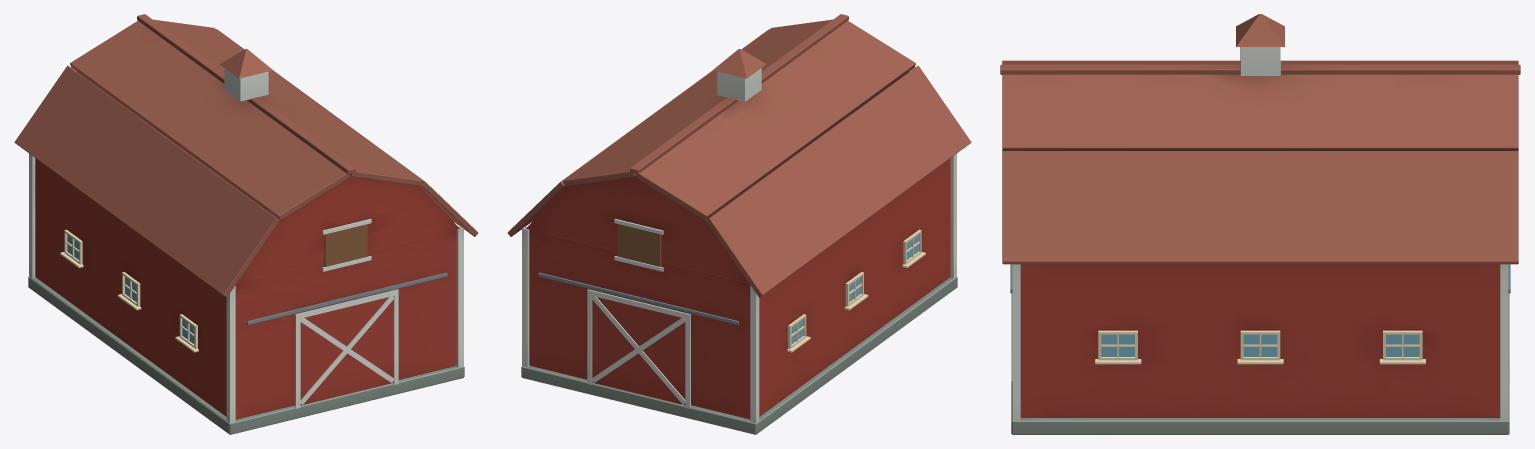
Rendered from sm_arch_barn.glb.
3 views of the same model, side by side, from view 1: azimuth 30°, elevation 25°; view 2: azimuth 150°, elevation 25°; view 3: azimuth 270°, elevation 25° (orthographic). The views are drawn at different scales.
Parts seen in each view (by area): view 1: BarnWalls, BarnRoofLower, BarnRoofUpper, BarnGableBack, BarnDoor.001, BarnRoofUpper.001, Foundation, RidgeCap, HayLoft.001, CornerBoard, CornerBoard.002, Cupola (+9 smaller); view 2: BarnWalls, BarnRoofLower, BarnRoofUpper, BarnGableFront, BarnDoor, BarnRoofUpper.001, Foundation, RidgeCap, HayLoft, CornerBoard.001, CornerBoard.003, Cupola (+9 smaller); view 3: BarnWalls, BarnRoofLower.001, BarnRoofUpper.001, Foundation, RidgeCap, BarnRoofUpper, CornerBoard.002, CornerBoard.003, CupolaRoof, Cupola, WindowGlass.004, WindowGlass.003 (+1 smaller).
Part boxes in pixels (x1,y1,x2,y2): BarnWalls: (35,115,456,419); BarnRoofLower: (14,65,279,297); BarnRoofUpper: (70,21,350,220); BarnGableBack: (237,176,459,282); BarnDoor.001: (300,296,393,405); BarnRoofUpper.001: (153,19,422,185); Foundation: (28,276,464,434); RidgeCap: (137,14,355,174); HayLoft.001: (324,224,367,266); CornerBoard: (226,285,235,422); CornerBoard.002: (456,226,463,367); Cupola: (224,68,268,101); BarnWalls: (529,115,950,419); BarnRoofLower: (706,65,971,297); BarnRoofUpper: (635,21,915,220); BarnGableFront: (526,176,748,282); BarnDoor: (592,296,685,405); BarnRoofUpper.001: (563,19,832,185); Foundation: (521,276,957,434); RidgeCap: (630,14,848,174); HayLoft: (618,224,661,266); CornerBoard.001: (750,285,759,422); CornerBoard.003: (522,226,529,367); Cupola: (717,68,761,101); BarnWalls: (1020,264,1500,417); BarnRoofLower.001: (1002,151,1518,264); BarnRoofUpper.001: (1002,74,1518,151); Foundation: (1011,381,1509,434); RidgeCap: (1000,64,1520,74); BarnRoofUpper: (1002,60,1518,64); CornerBoard.002: (1012,264,1020,420); CornerBoard.003: (1500,264,1508,420); CupolaRoof: (1236,14,1284,46); Cupola: (1240,47,1280,76); WindowGlass.004: (1243,334,1277,356); WindowGlass.003: (1101,334,1134,356).
Bounding box in the file's own units: 8.95 × 9.5 × 12.8.
